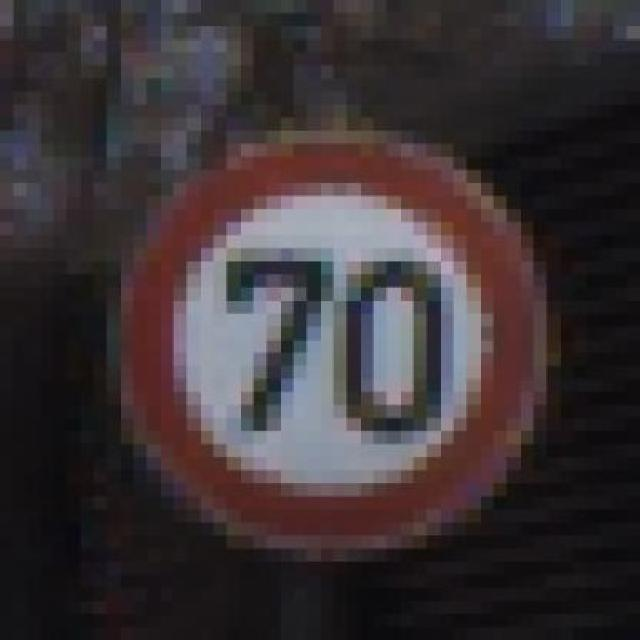forb_speed_over_70: (122, 142, 538, 548)
